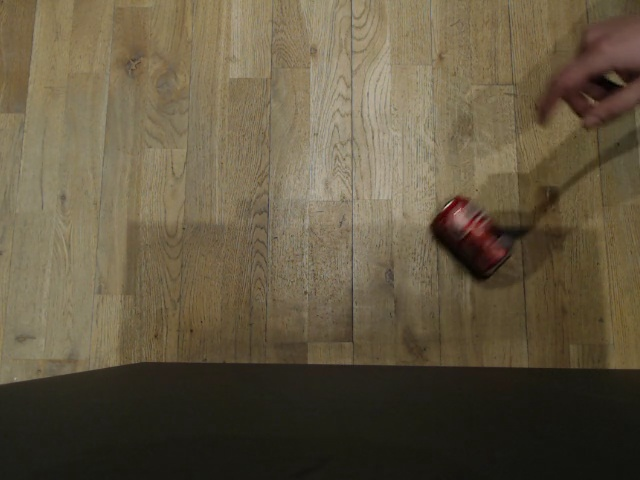coke: (429, 193, 513, 280)
